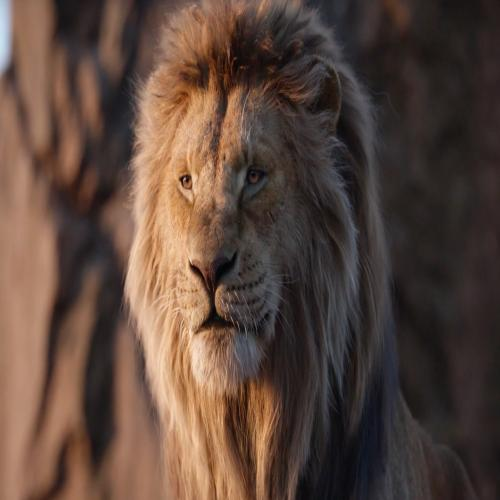lion-endangered: (126, 8, 468, 494)
